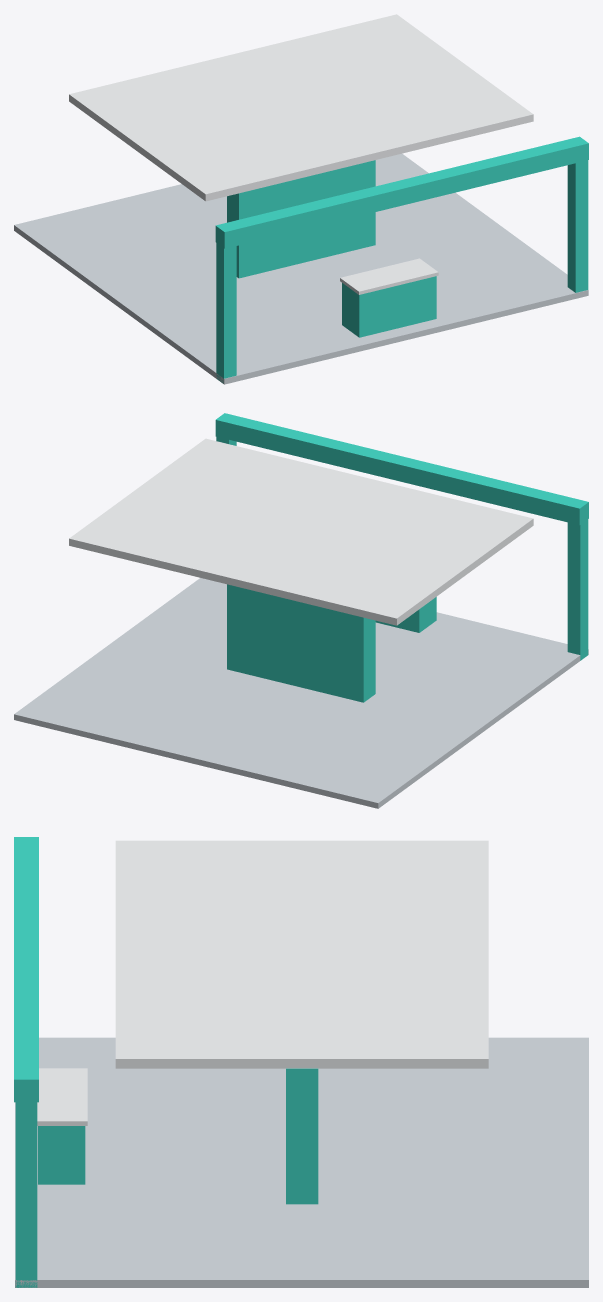
The picture shows the model from 3 angles, top to bottom: view 1: azimuth 30°, elevation 25°; view 2: azimuth 150°, elevation 25°; view 3: azimuth 270°, elevation 25°; orthographic projection. The views are drawn at different scales.
Visible parts, largest first — view 1: Exhibition Booth Concept; view 2: Exhibition Booth Concept; view 3: Exhibition Booth Concept.
Boxes of the visible parts, x1,y1,x2,y2 form: Exhibition Booth Concept: (14,14,588,384); Exhibition Booth Concept: (14,413,588,808); Exhibition Booth Concept: (14,837,588,1287).
Bounding box in the file's own units: 8 × 3.34 × 8.01.
